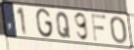1: (16, 6, 28, 37)
9: (73, 12, 90, 42)
F: (91, 14, 107, 43)
G: (35, 7, 54, 39)
O: (109, 16, 128, 45)
Q: (55, 11, 71, 39)
